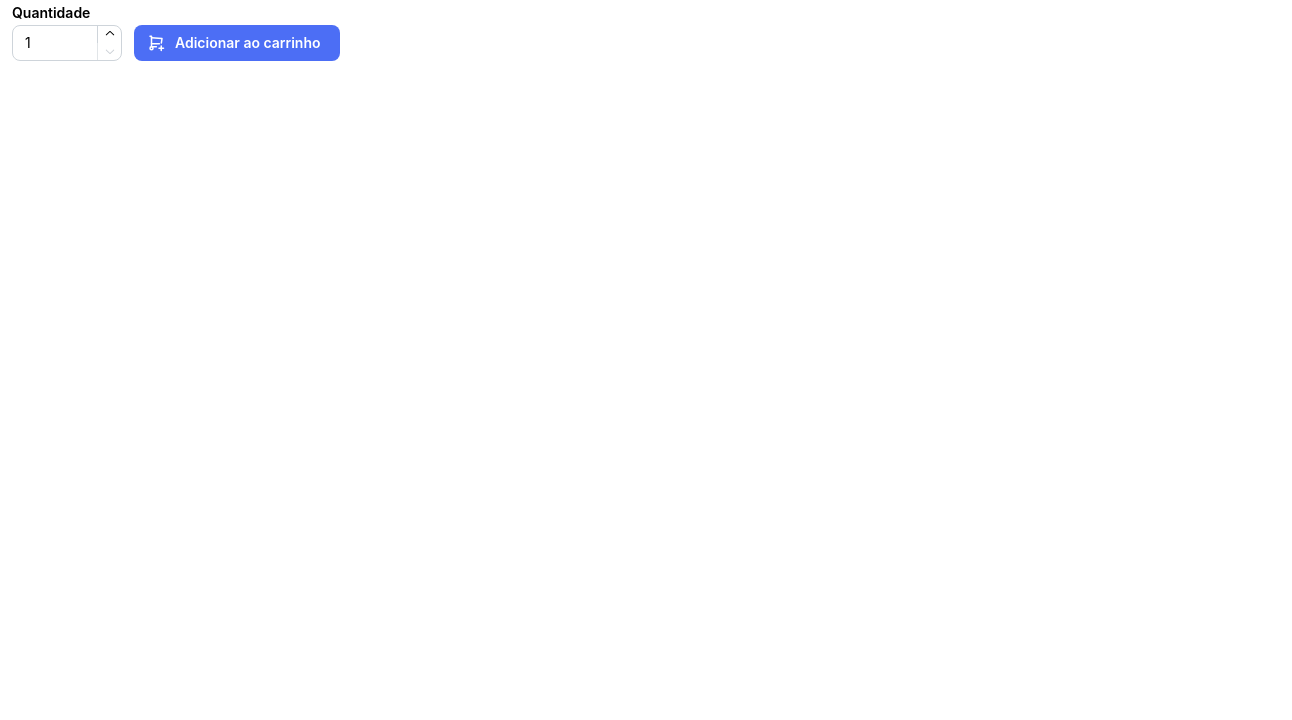
AddToCartForm › adiciona a quantidade escolhida e confirma com uma notificação
Replace the text in the field labelled "Quantidade" with "3" at (67, 43), box [12,25,122,61]
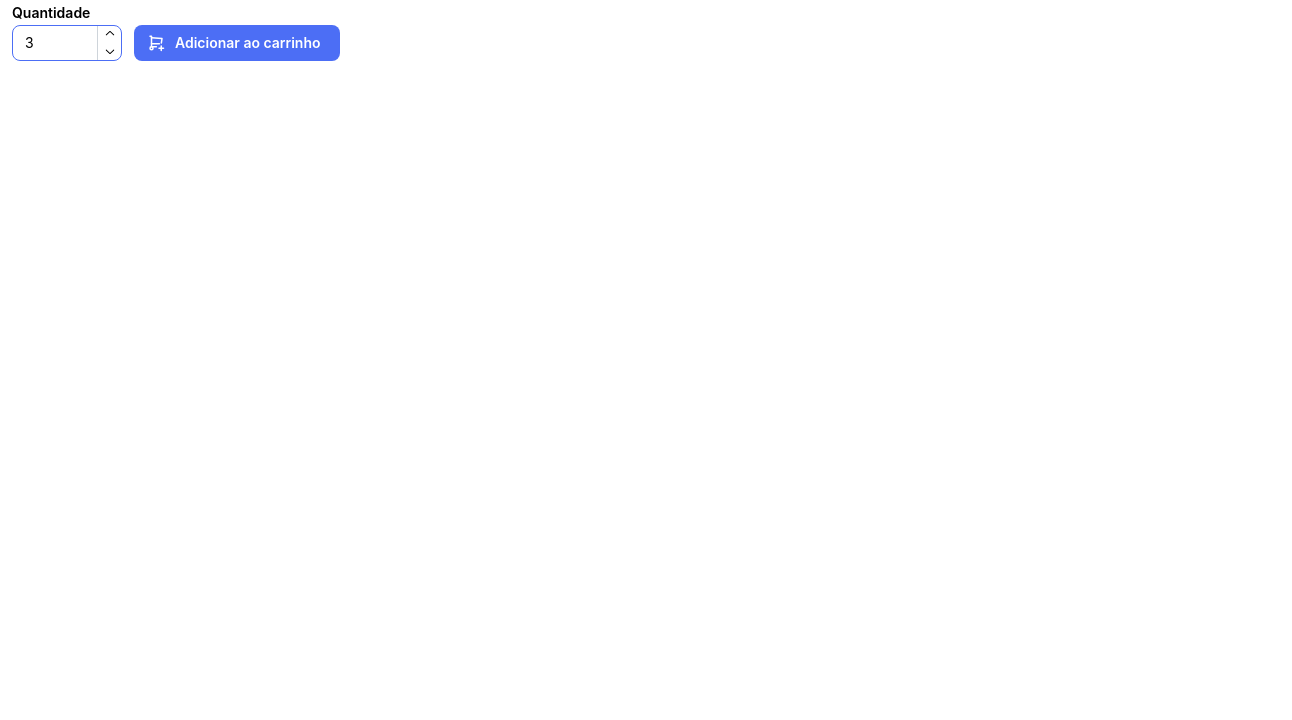
Click the button "Adicionar ao carrinho" at (237, 43), box [134,25,340,61]
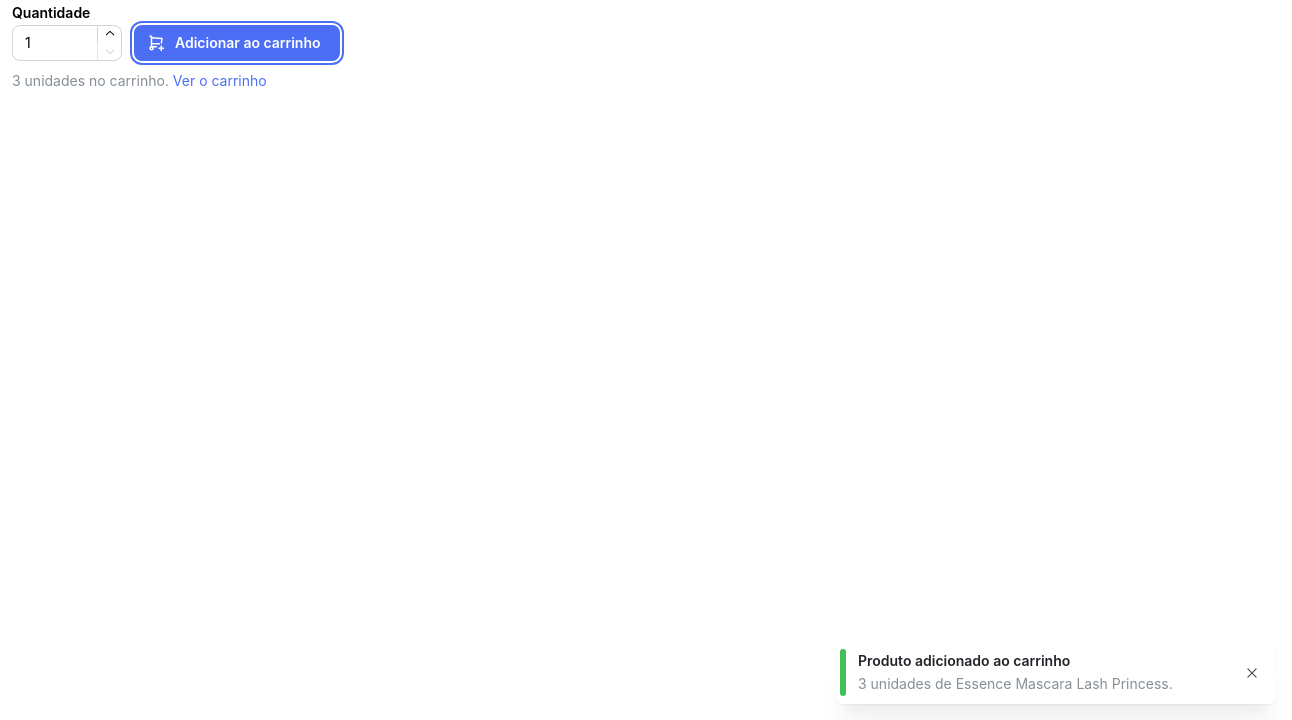
Now the text "3 unidades de Essence Mascara Lash Princess." is shown, box [858,674,1228,694]
Now the text "3 unidades no carrinho. Ver o carrinho" is shown, box [12,72,267,89]
Now the field labelled "Quantidade" holds "1", box [12,25,122,61]
